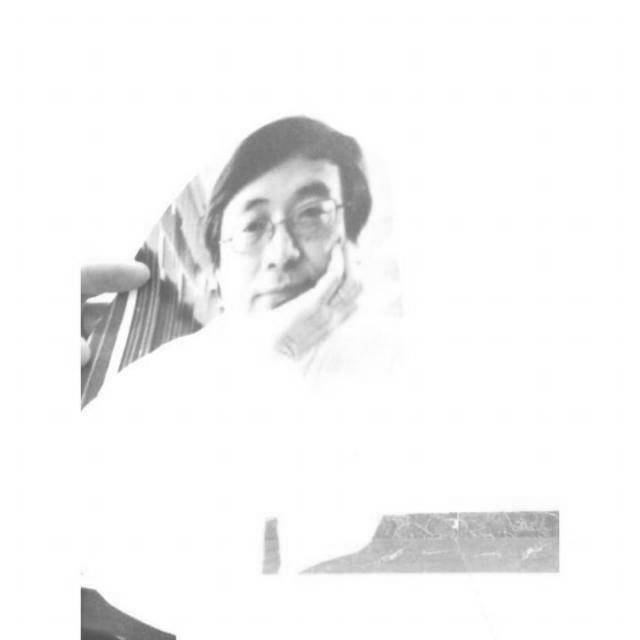fake: (82, 103, 419, 639)
